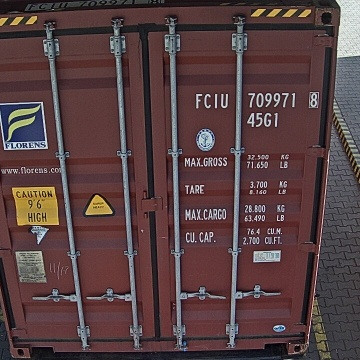serial_id: (196, 91, 319, 108)
